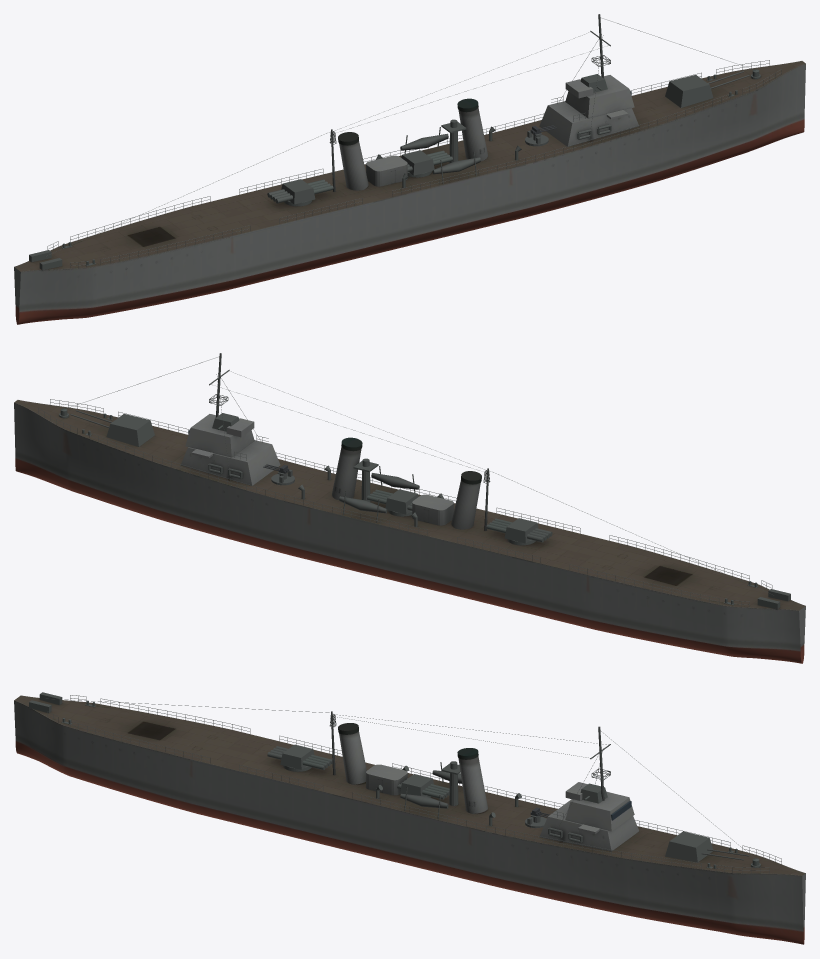
Rendered from kagero-dd.glb.
3 views of the same model, one above another, from view 1: azimuth 30°, elevation 25°; view 2: azimuth 150°, elevation 25°; view 3: azimuth 330°, elevation 25° (orthographic).
Visible parts, largest first — view 1: Bottom, Kit_turret-127mm-twin; view 2: Bottom, Kit_turret-127mm-twin; view 3: Bottom, Kit_turret-127mm-twin.
Part boxes in pixels (box(x1,y1,x2,y2)): Bottom: box(14, 14, 805, 324); Kit_turret-127mm-twin: box(665, 75, 713, 107); Bottom: box(14, 353, 805, 663); Kit_turret-127mm-twin: box(106, 414, 154, 446); Bottom: box(14, 692, 805, 944); Kit_turret-127mm-twin: box(665, 831, 712, 862).
Bounding box in the file's own units: 118 × 25.42 × 10.8.
Materials: 3 (1 with a texture image).
